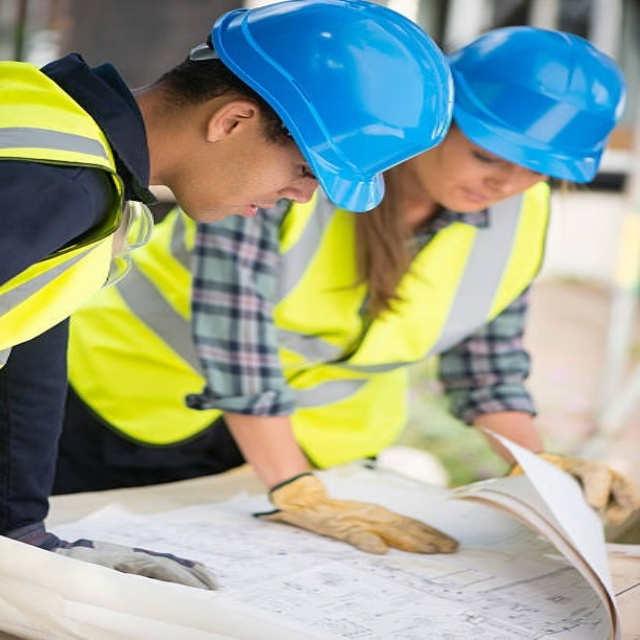Guantes: (258, 473, 459, 554), (504, 451, 640, 528), (46, 536, 222, 591)
Sin_gafas: (256, 133, 312, 196), (449, 145, 544, 182)
Sin_mascara: (195, 196, 285, 224), (447, 176, 511, 213)
